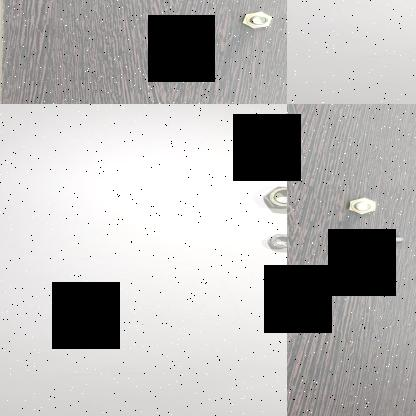Bolts: (360, 230, 404, 249), (344, 193, 380, 216), (239, 8, 279, 28)
NUTS: (257, 182, 287, 210), (261, 228, 287, 254)
